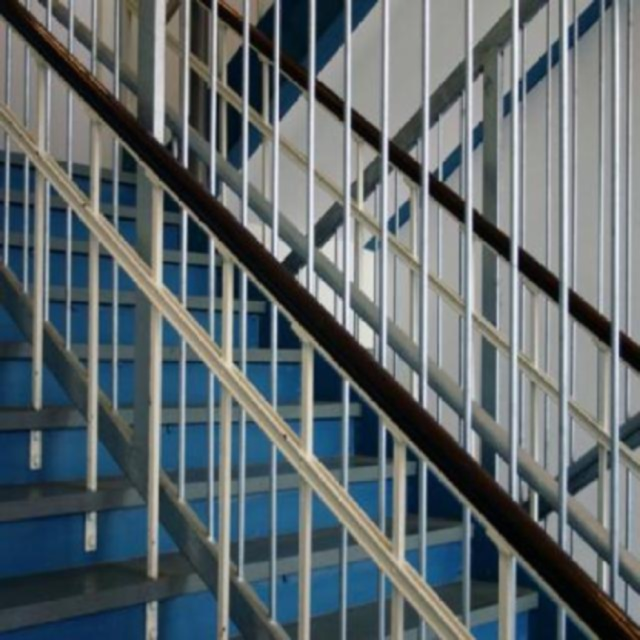stair: (0, 169, 536, 638)
